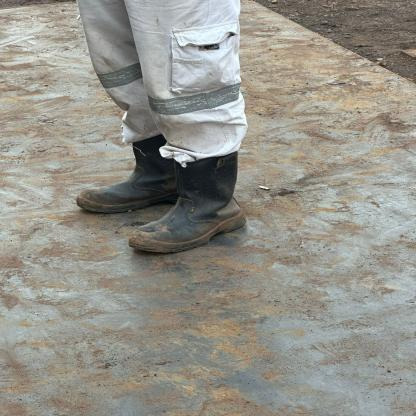bota: (126, 154, 251, 254), (71, 134, 188, 214)
